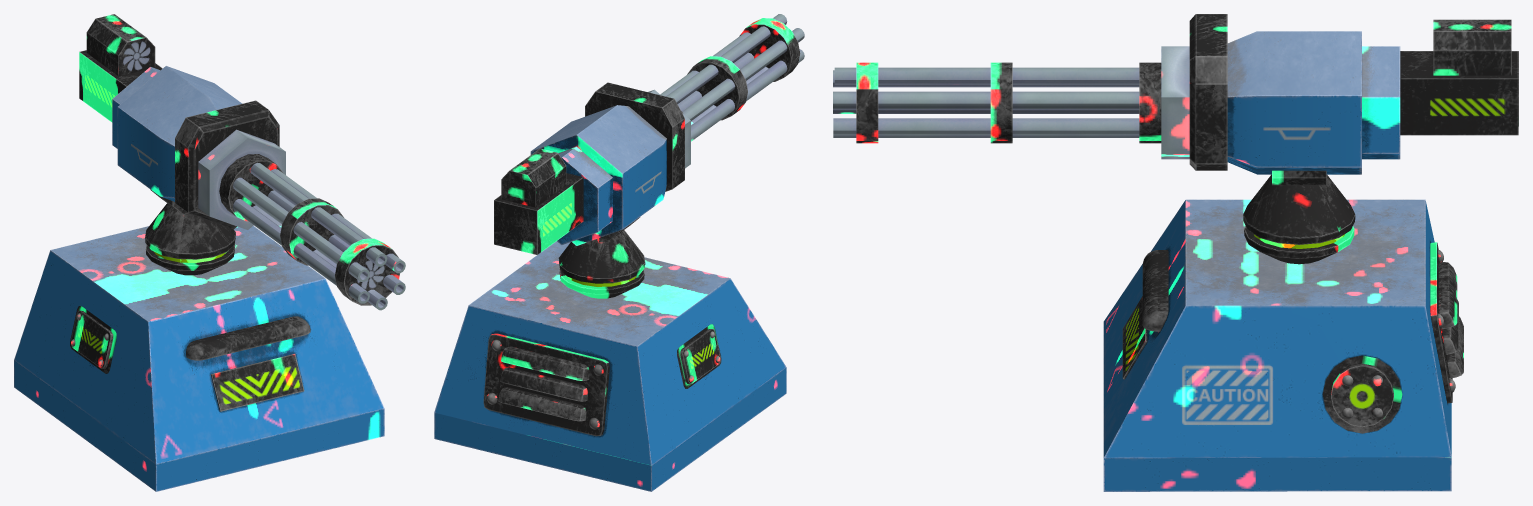
The model's file is Mabit_Items_001.fbx.
3 renders of one model, left to right at view 1: azimuth 30°, elevation 25°; view 2: azimuth 150°, elevation 25°; view 3: azimuth 270°, elevation 25°, orthographic. The views are drawn at different scales.
Parts seen in each view (by area): view 1: m_Mabit_Items_001; view 2: m_Mabit_Items_001; view 3: m_Mabit_Items_001.
Part boxes in pixels (x1=…): m_Mabit_Items_001: x1=14, y1=14, x2=405, y2=491; m_Mabit_Items_001: x1=434, y1=14, x2=804, y2=491; m_Mabit_Items_001: x1=833, y1=14, x2=1518, y2=491.
Size of the model in its own units: 630 by 1323 by 850.
